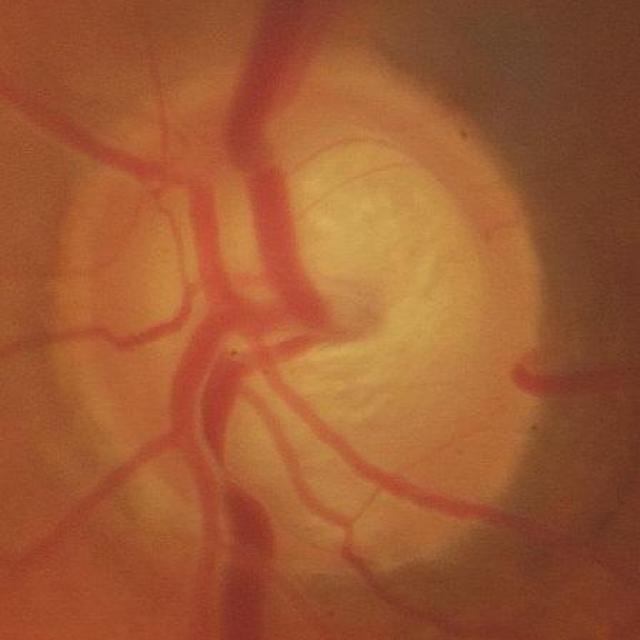OC: (161, 125, 493, 456)
OD: (51, 61, 542, 574)
